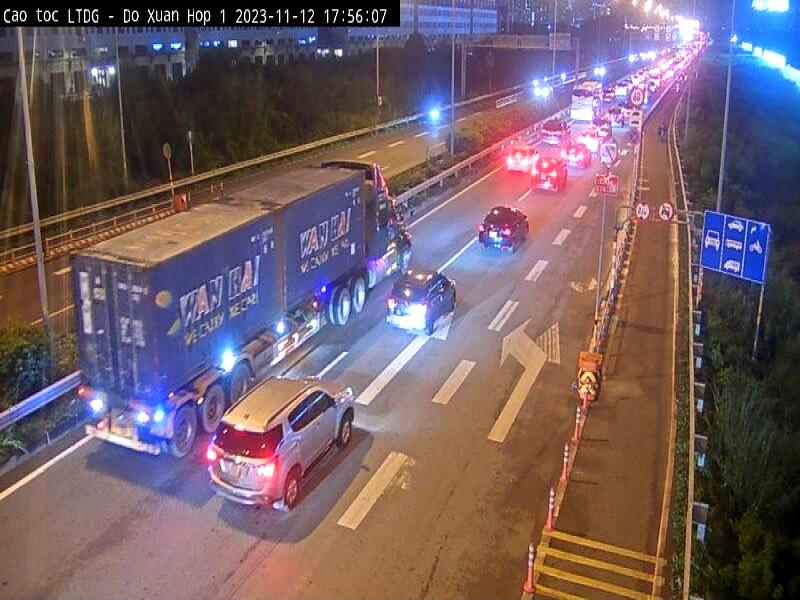truck: (82, 160, 415, 466)
